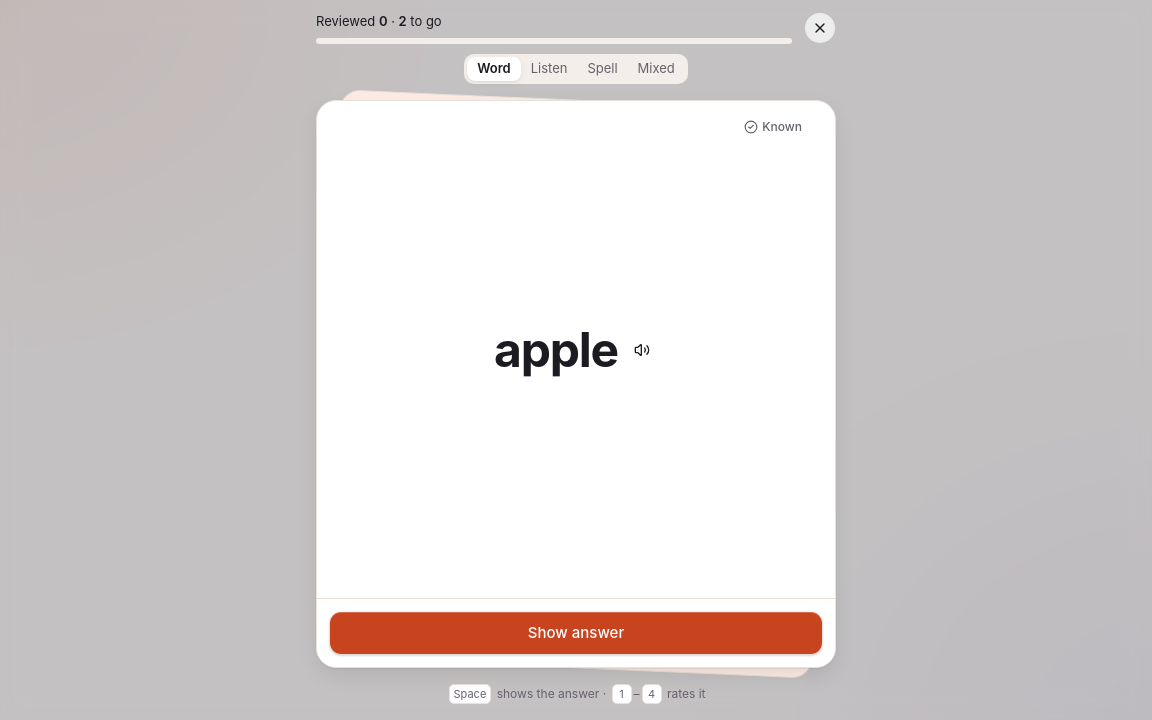
Test: ReviewDeck › skips a card marked known without rating it, and the toast puts it back
The image size is (1152, 720).
Expected: the heading "apple" is shown, top-left (494, 326), bottom-right (618, 374)
Click the button with test id "review-known" at (773, 127), box top-left (735, 115), bottom-right (811, 139)
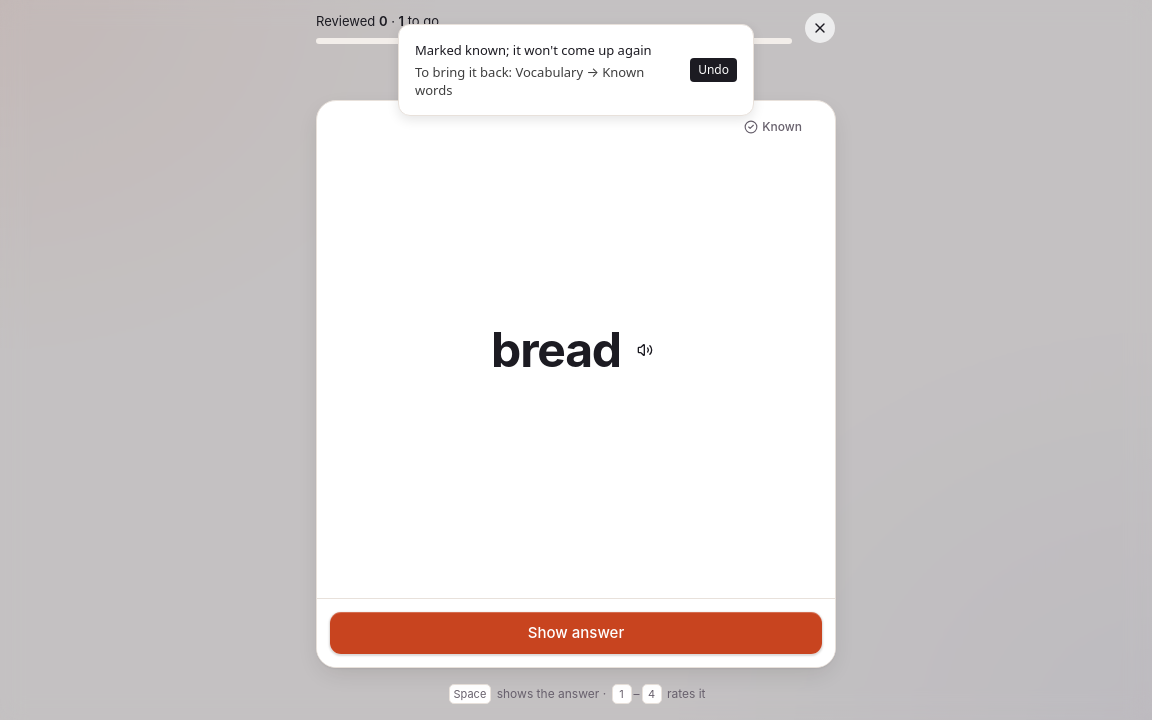
Expected: the heading "bread" is shown, top-left (491, 326), bottom-right (621, 374)
Expected: the element with test id "review-progress" reads "Reviewed 0 · 1 to go", top-left (316, 13), bottom-right (439, 29)
Expected: the text "Marked known; it won't come up again" is shown, top-left (415, 41), bottom-right (684, 60)
Click the button "Undo" at (714, 70), box top-left (690, 58), bottom-right (737, 82)
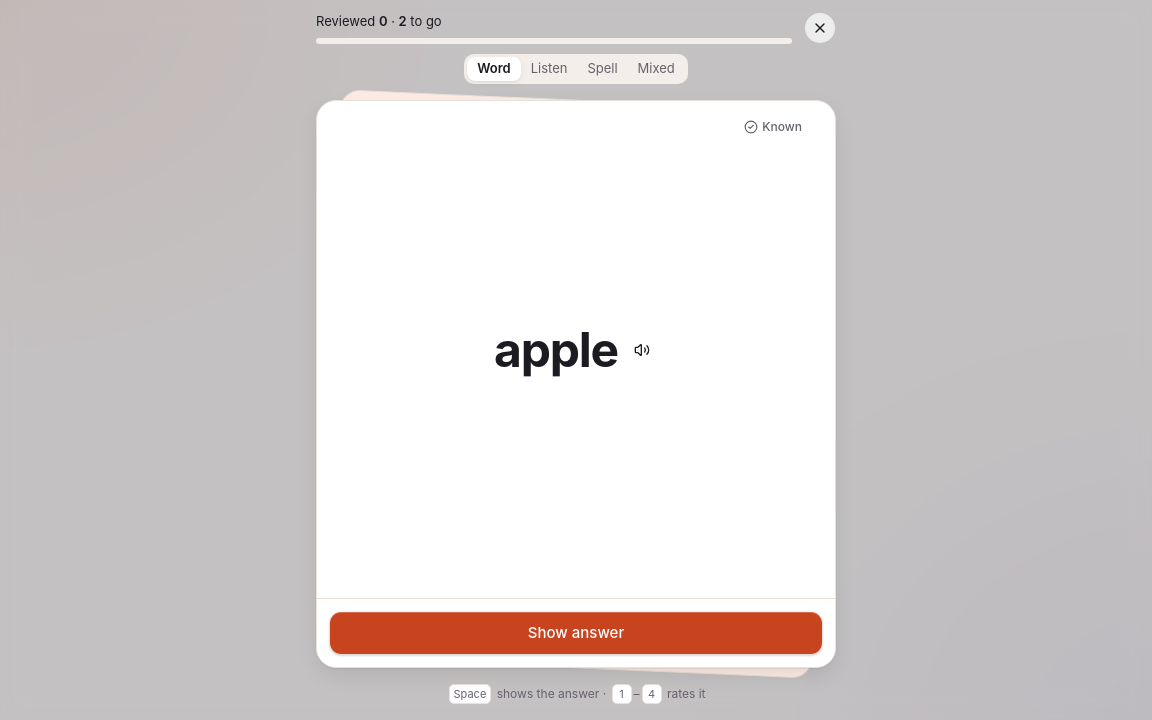
Expected: the dialog named "Vocabulary review" is shown, top-left (316, 12), bottom-right (836, 704)
Expected: the heading "apple" is shown, top-left (494, 326), bottom-right (618, 374)
Expected: the element with test id "review-progress" reads "Reviewed 0 · 2 to go", top-left (316, 13), bottom-right (442, 29)
